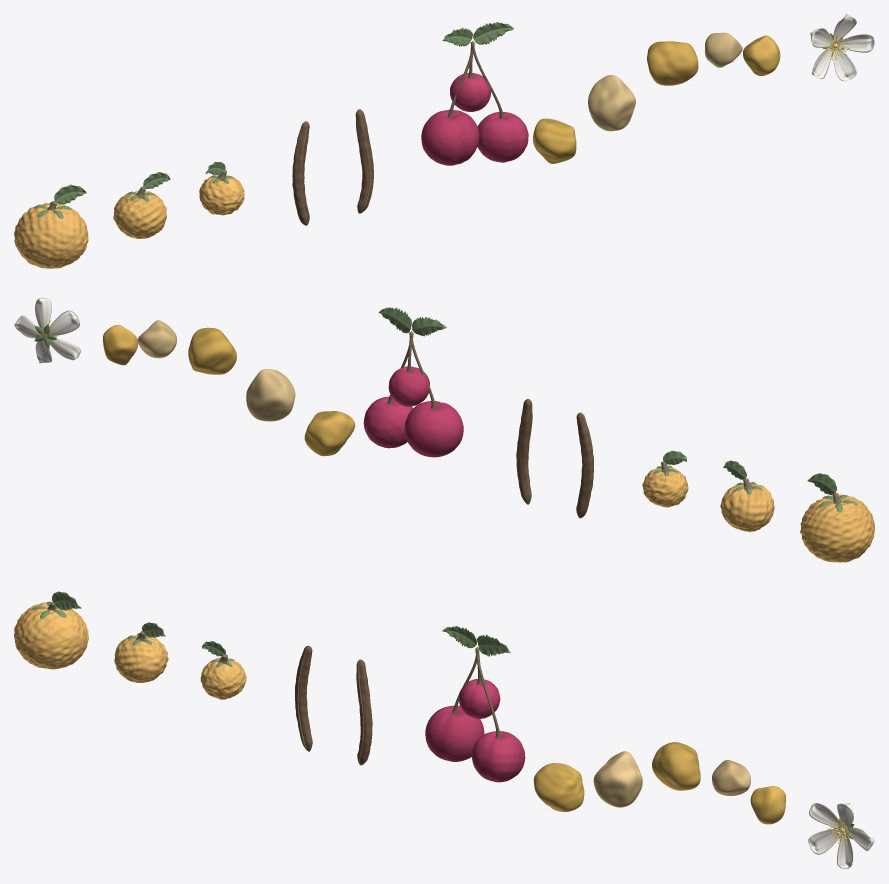
The model's file is aura_ingredients_3d.glb.
3 views of the same model, one above another, from view 1: azimuth 30°, elevation 25°; view 2: azimuth 150°, elevation 25°; view 3: azimuth 330°, elevation 25° (orthographic).
Visible parts, largest first — view 1: mandarin_fruit_1, black_cherry_1, black_cherry_2, amber_resin_crystal_2, amber_resin_crystal_3, mandarin_fruit_2, amber_resin_crystal_1, mandarin_fruit_3, black_cherry_3, amber_resin_crystal_5, amber_resin_crystal_4, cherry_leaf_1 (+6 smaller); view 2: mandarin_fruit_1, black_cherry_1, amber_resin_crystal_2, mandarin_fruit_2, amber_resin_crystal_3, black_cherry_2, amber_resin_crystal_1, mandarin_fruit_3, black_cherry_3, amber_resin_crystal_5, amber_resin_crystal_4, vanilla_pod_1_segment_5 (+4 smaller); view 3: mandarin_fruit_1, black_cherry_1, black_cherry_2, amber_resin_crystal_2, mandarin_fruit_2, amber_resin_crystal_1, amber_resin_crystal_3, mandarin_fruit_3, black_cherry_3, amber_resin_crystal_5, amber_resin_crystal_4, orange_blossom_petal_4 (+1 smaller).
Boxes of the visible parts, <box> form: mandarin_fruit_1: <box>14,203,88,268</box>; black_cherry_1: <box>421,109,479,165</box>; black_cherry_2: <box>477,112,528,162</box>; amber_resin_crystal_2: <box>588,75,635,131</box>; amber_resin_crystal_3: <box>647,41,698,85</box>; mandarin_fruit_2: <box>113,190,166,238</box>; amber_resin_crystal_1: <box>533,118,576,163</box>; mandarin_fruit_3: <box>199,174,244,215</box>; black_cherry_3: <box>450,72,490,111</box>; amber_resin_crystal_5: <box>743,35,780,75</box>; amber_resin_crystal_4: <box>705,32,742,67</box>; cherry_leaf_1: <box>473,22,513,44</box>; mandarin_fruit_1: <box>800,494,874,562</box>; black_cherry_1: <box>404,401,463,457</box>; amber_resin_crystal_2: <box>246,369,295,421</box>; mandarin_fruit_2: <box>720,483,774,531</box>; amber_resin_crystal_3: <box>188,327,236,374</box>; black_cherry_2: <box>363,396,413,448</box>; amber_resin_crystal_1: <box>304,411,355,456</box>; mandarin_fruit_3: <box>642,467,688,507</box>; black_cherry_3: <box>388,366,429,406</box>; amber_resin_crystal_5: <box>103,325,138,365</box>; amber_resin_crystal_4: <box>138,320,176,358</box>; vanilla_pod_1_segment_5: <box>580,445,593,492</box>; mandarin_fruit_1: <box>14,602,88,669</box>; black_cherry_1: <box>425,705,484,761</box>; black_cherry_2: <box>472,731,525,782</box>; amber_resin_crystal_2: <box>593,751,642,807</box>; mandarin_fruit_2: <box>114,635,168,682</box>; amber_resin_crystal_1: <box>533,763,584,811</box>; amber_resin_crystal_3: <box>652,742,700,790</box>; mandarin_fruit_3: <box>200,657,246,699</box>; black_cherry_3: <box>459,679,500,718</box>; amber_resin_crystal_5: <box>750,786,785,824</box>; amber_resin_crystal_4: <box>712,760,750,795</box>; orange_blossom_petal_4: <box>808,829,841,854</box>.
Bounding box in the file's own units: 11.5 × 2.08 × 0.8727.
